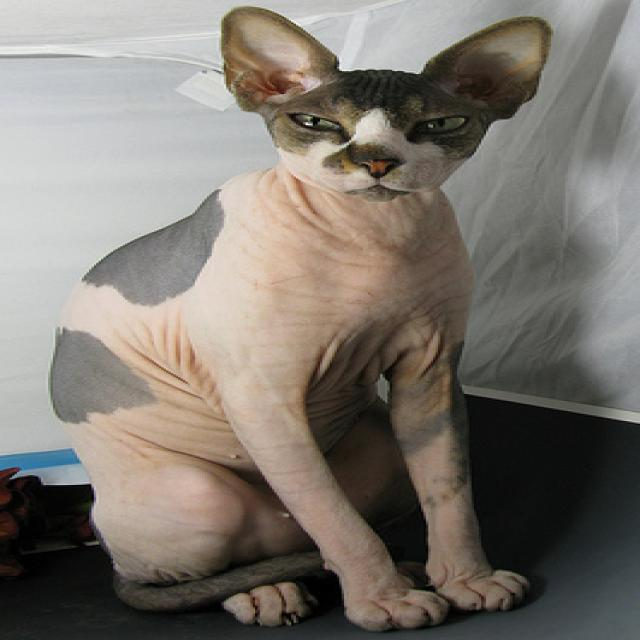Sphynx: (43, 2, 563, 640)
